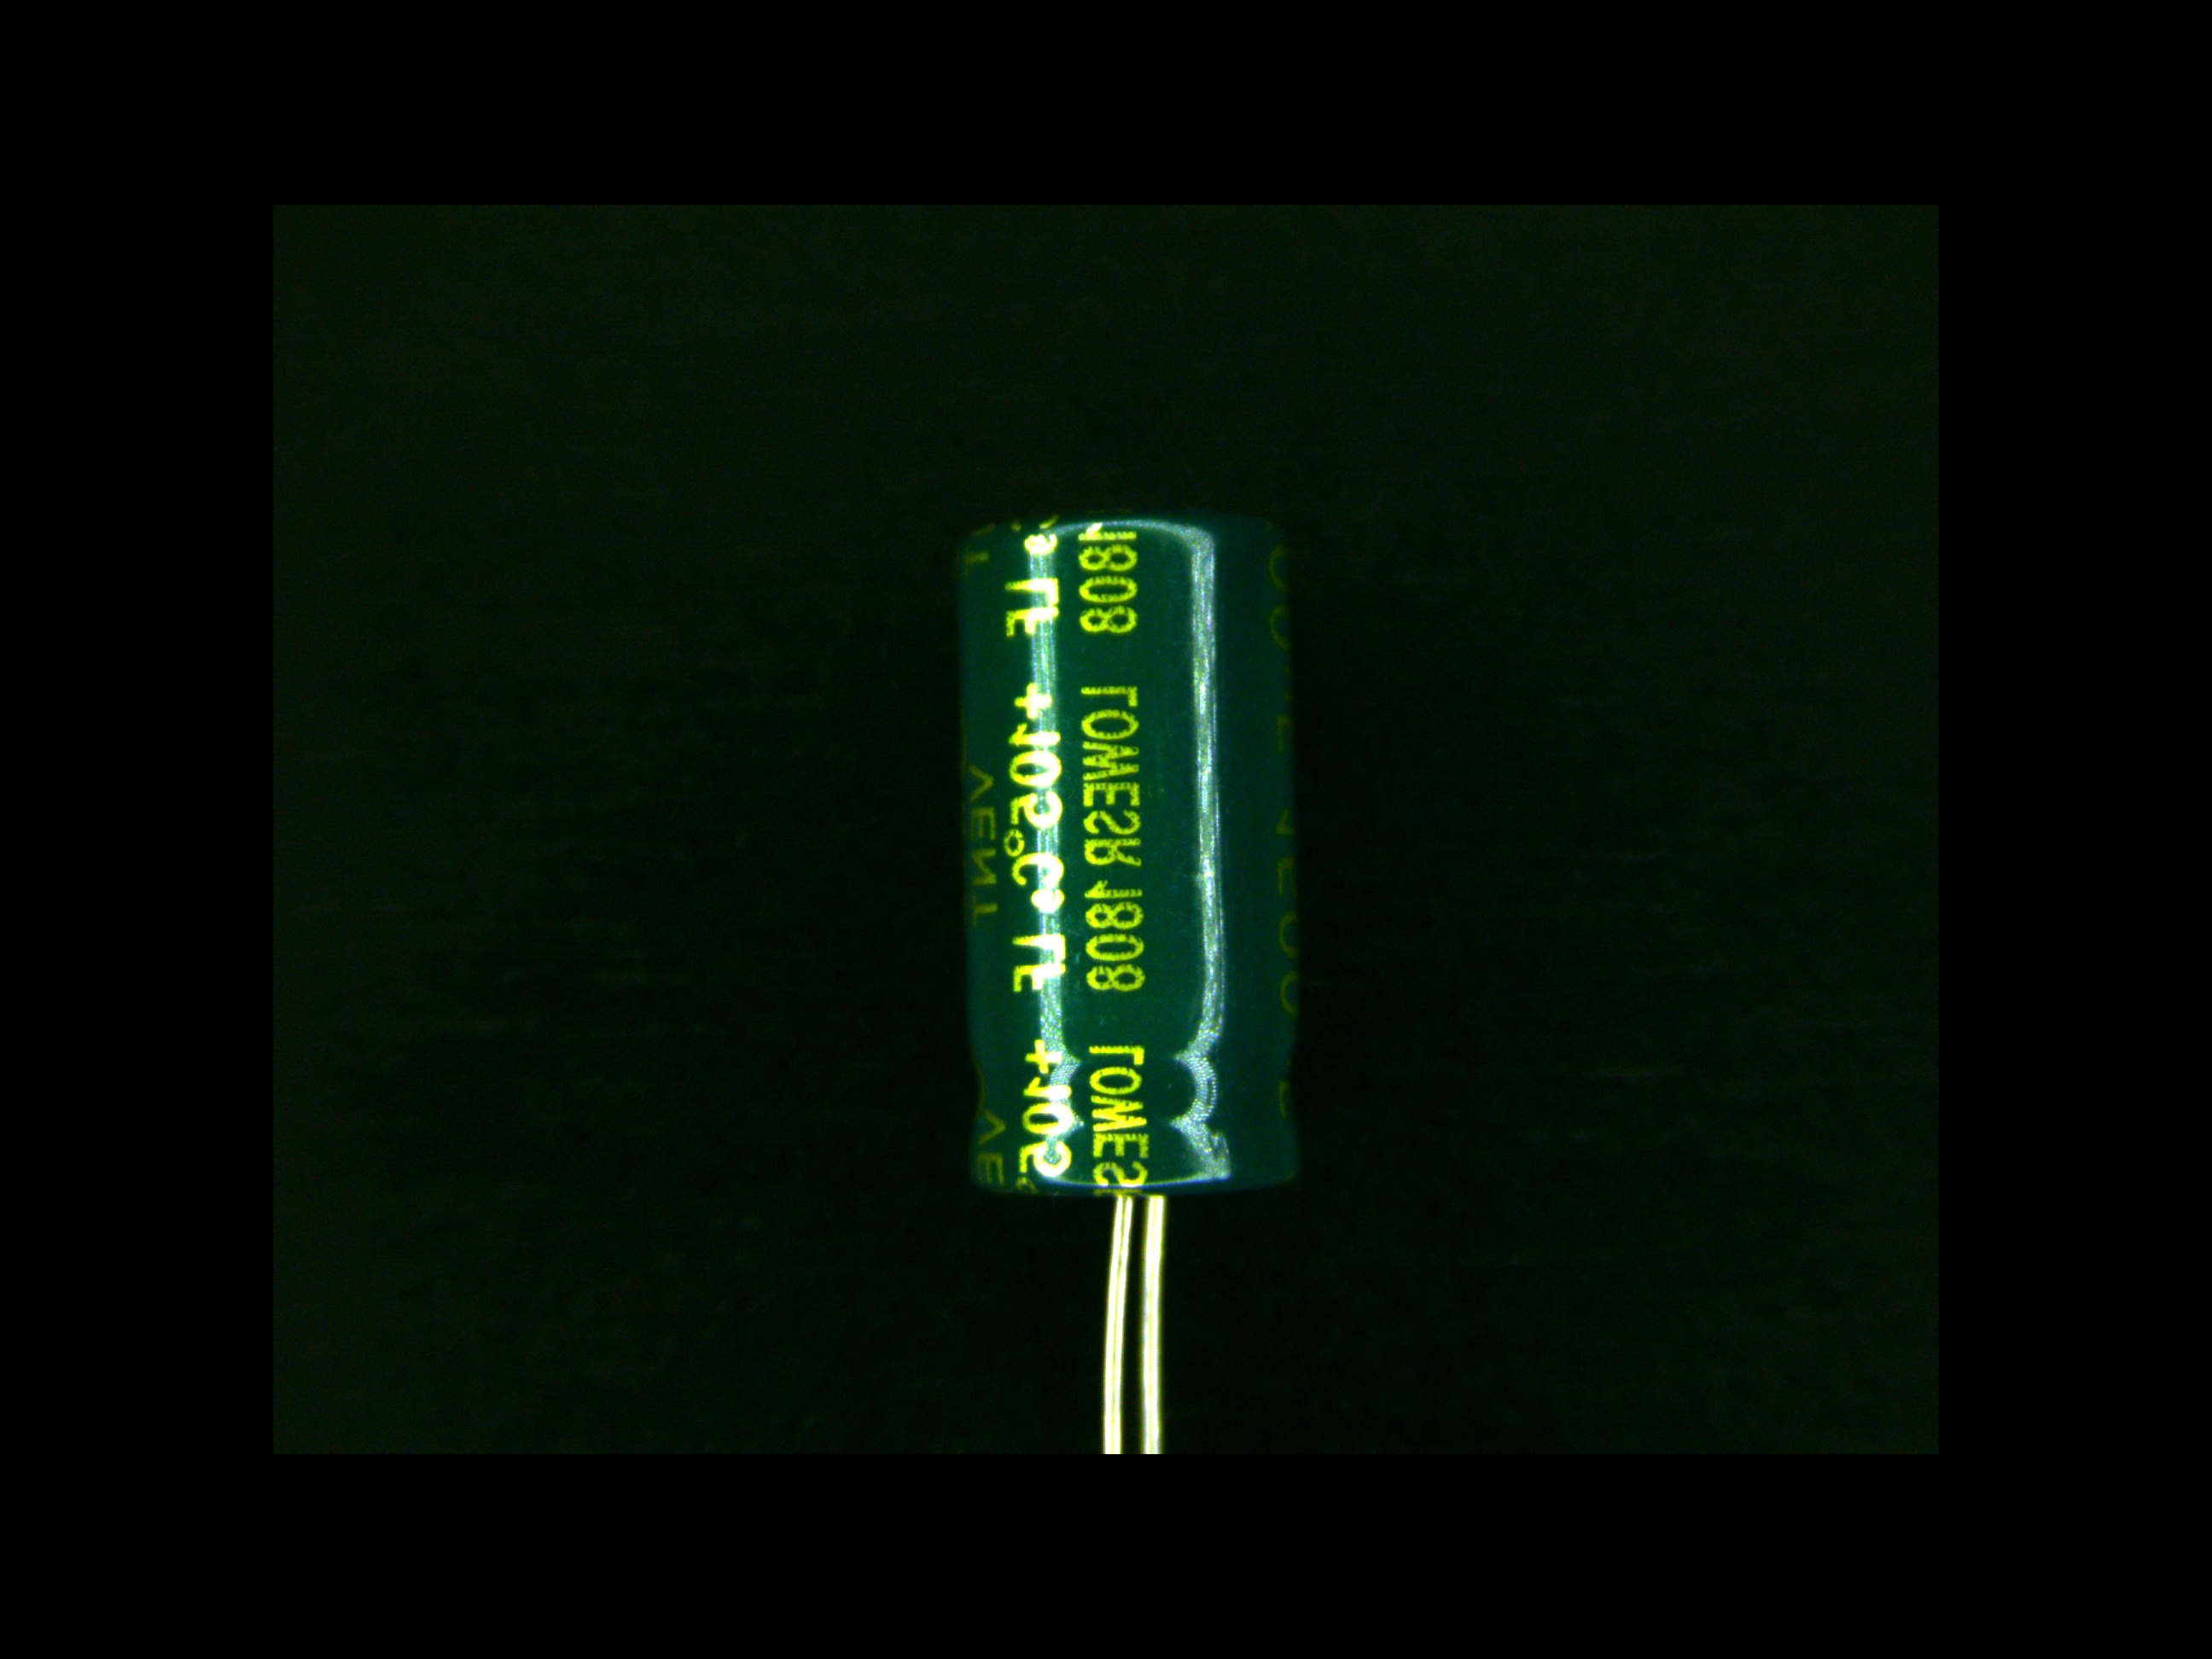c1: (951, 516, 1308, 1230)
